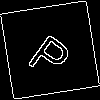P: (25, 25, 79, 82)
